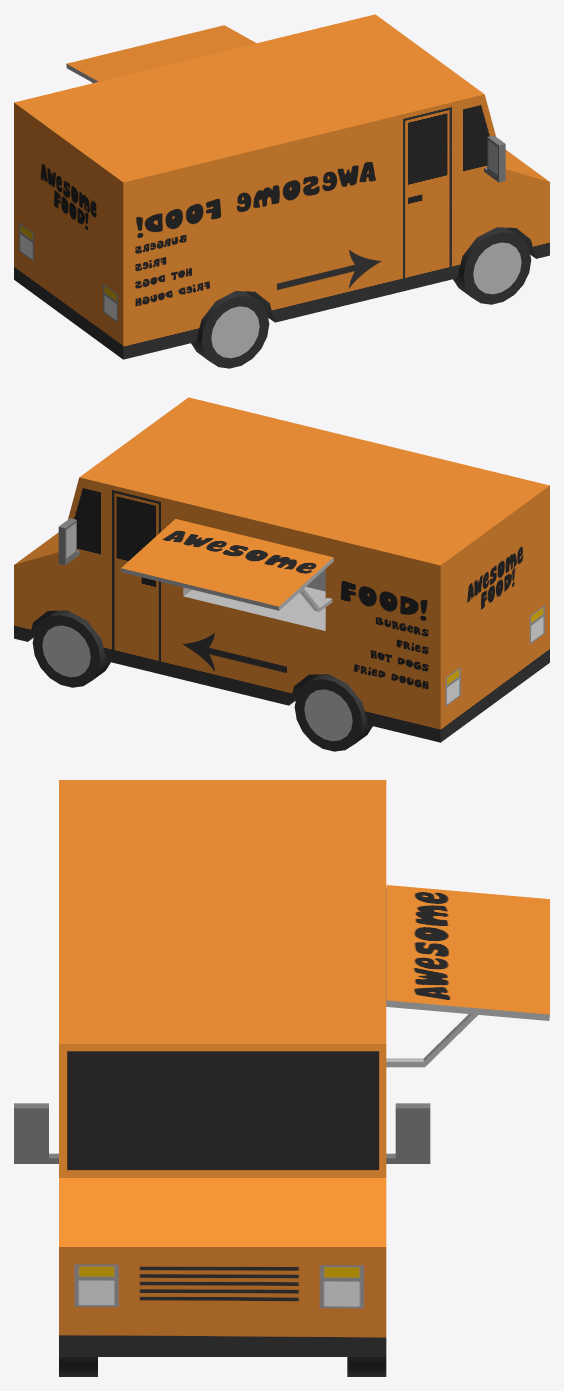
The model's file is FoodTruck.FBX.
The picture shows the model from 3 angles, top to bottom: view 1: azimuth 30°, elevation 25°; view 2: azimuth 150°, elevation 25°; view 3: azimuth 270°, elevation 25°; orthographic projection. The views are drawn at different scales.
Visible parts, largest first — view 1: Cylinder002; view 2: Cylinder002; view 3: Cylinder002.
Part boxes in pixels (x1,y1,x2,y2): Cylinder002: [14, 14, 549, 368]; Cylinder002: [14, 397, 549, 751]; Cylinder002: [14, 780, 549, 1376].
Size of the model in its own units: 0.9603 by 0.456 by 0.6978.
1 material, 1 textured.
